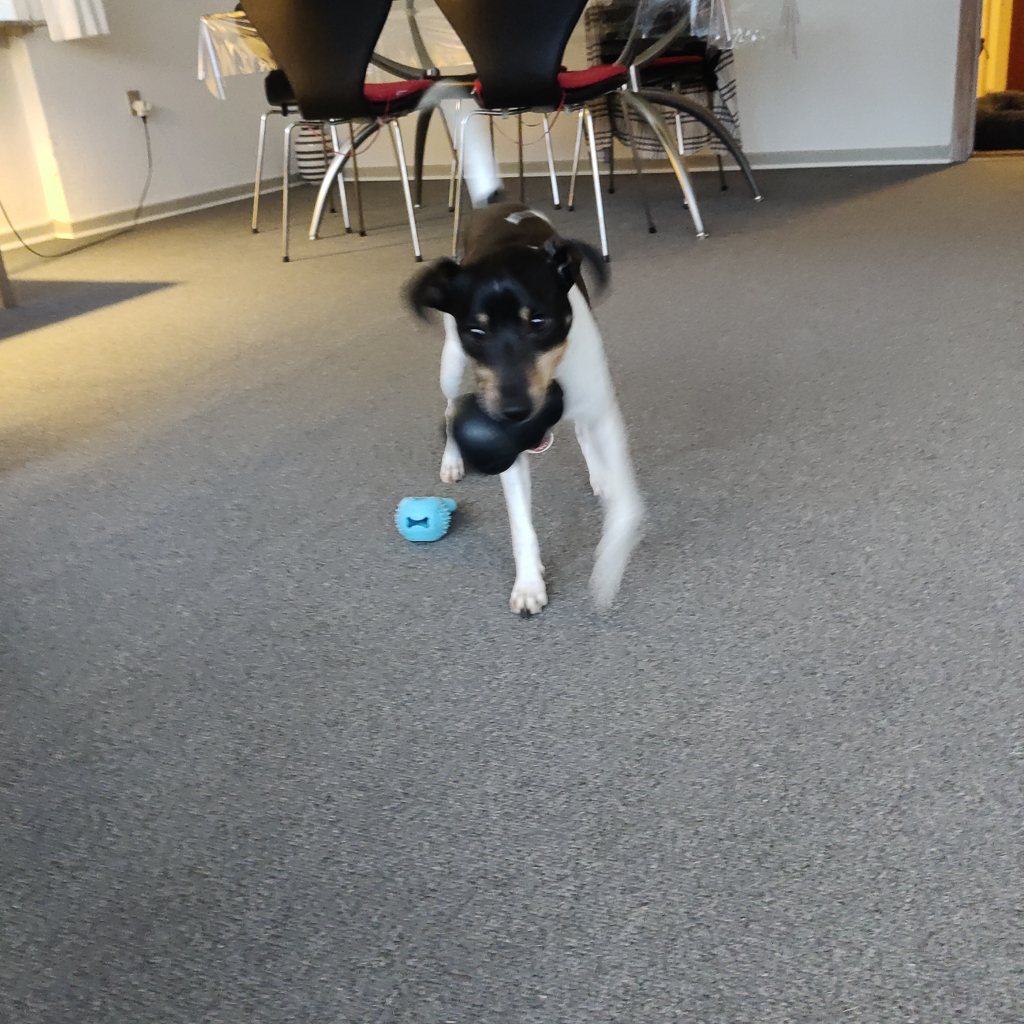Dog: (368, 53, 687, 675)
